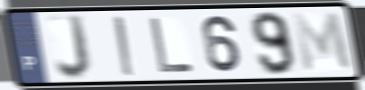6: (200, 13, 244, 75)
9: (247, 9, 298, 78)
I: (111, 14, 138, 78)
J: (53, 12, 93, 82)
L: (147, 16, 196, 75)
M: (290, 11, 355, 74)
